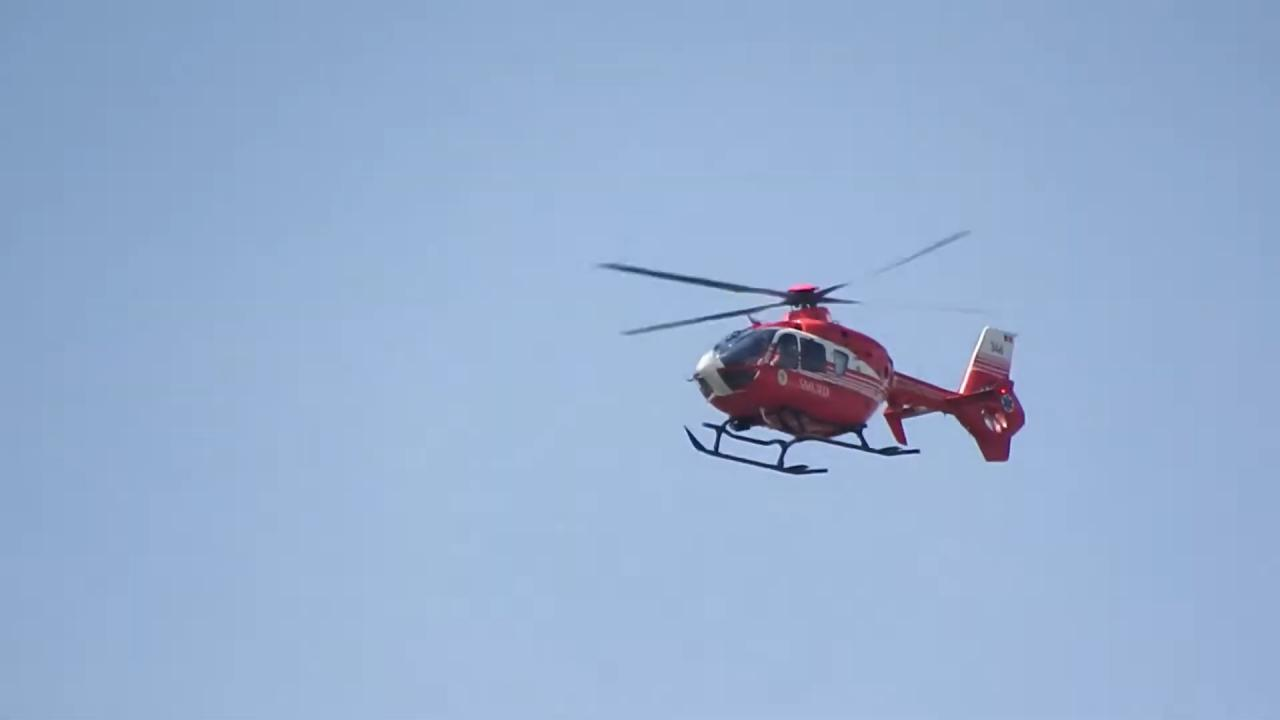Helicopter: (588, 216, 1040, 494)
